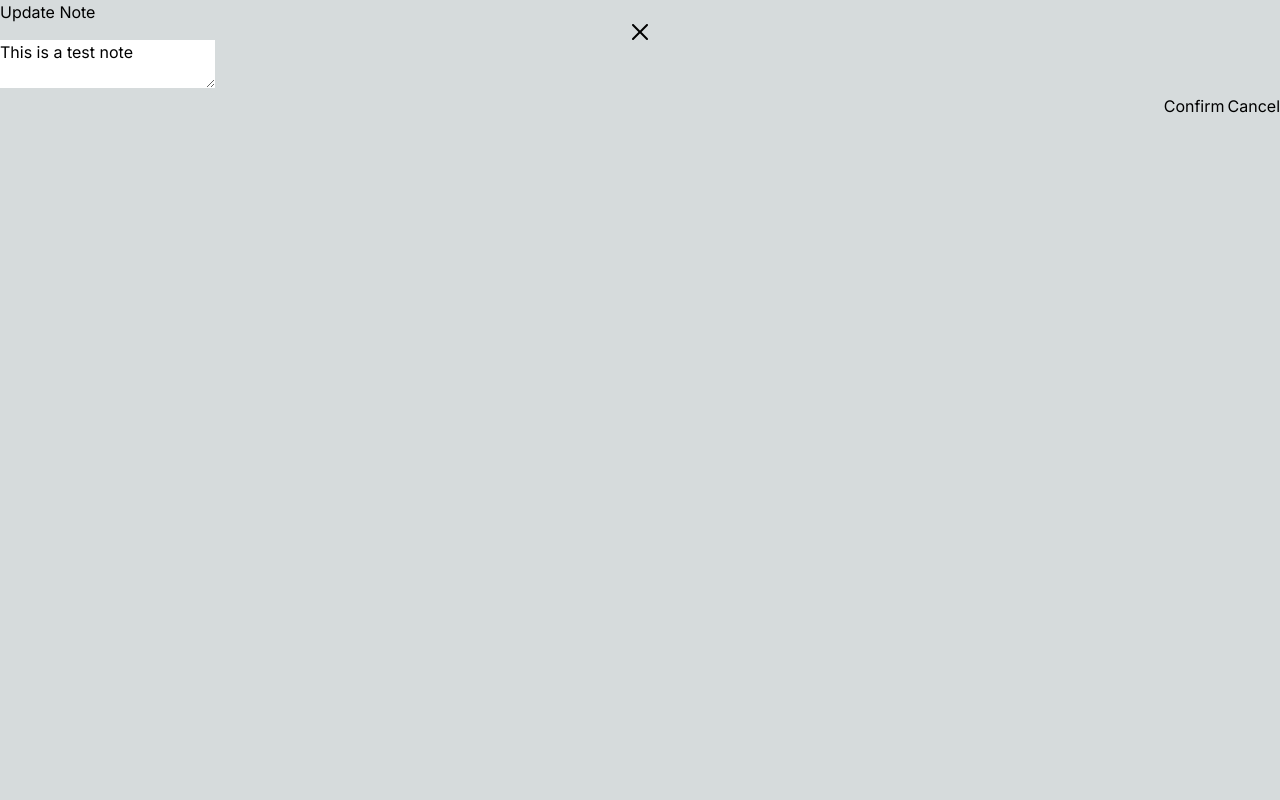
Scenario: EditModal › validates content length and displays an error message for short content
This screenshot has width=1280, height=800.
Step 1. Replace the text in the text box with "short" → (108, 64), box [0, 40, 215, 88]
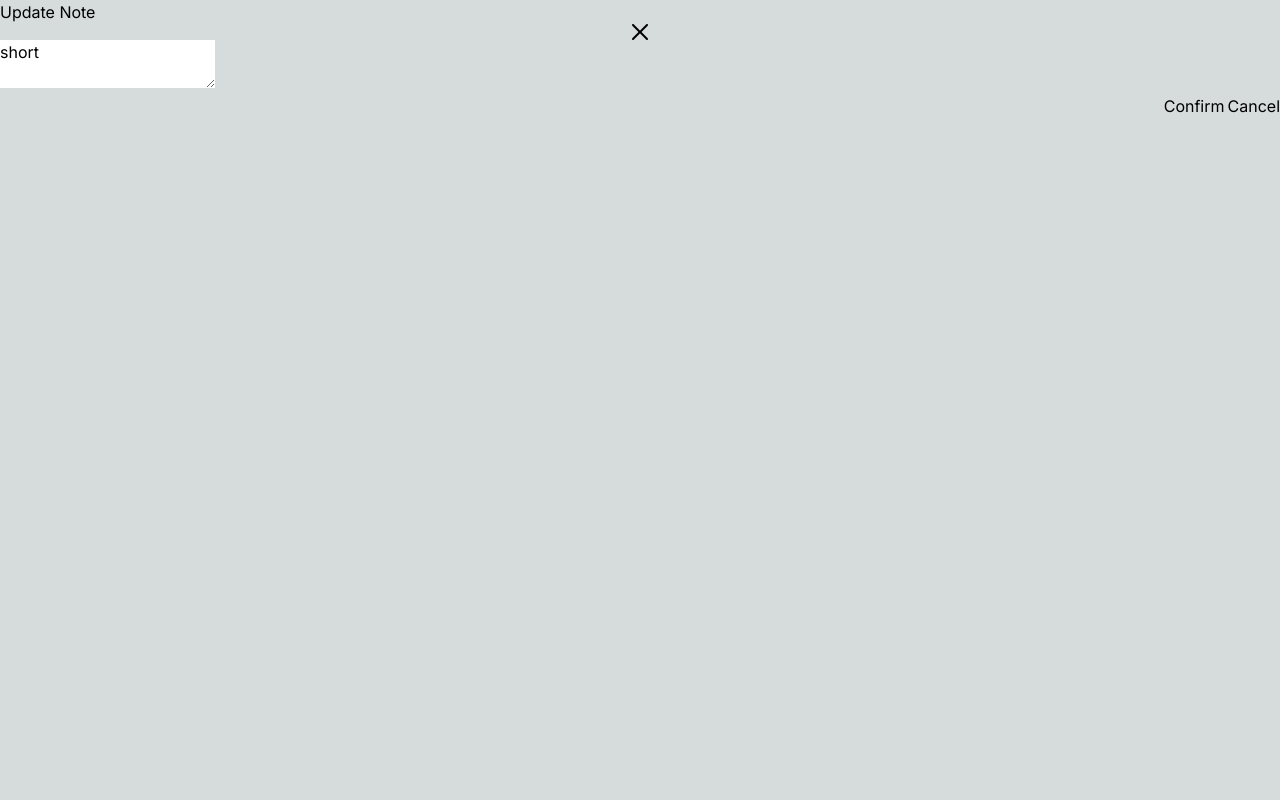
Step 2. Submit the form from the text box, box [0, 40, 215, 88]
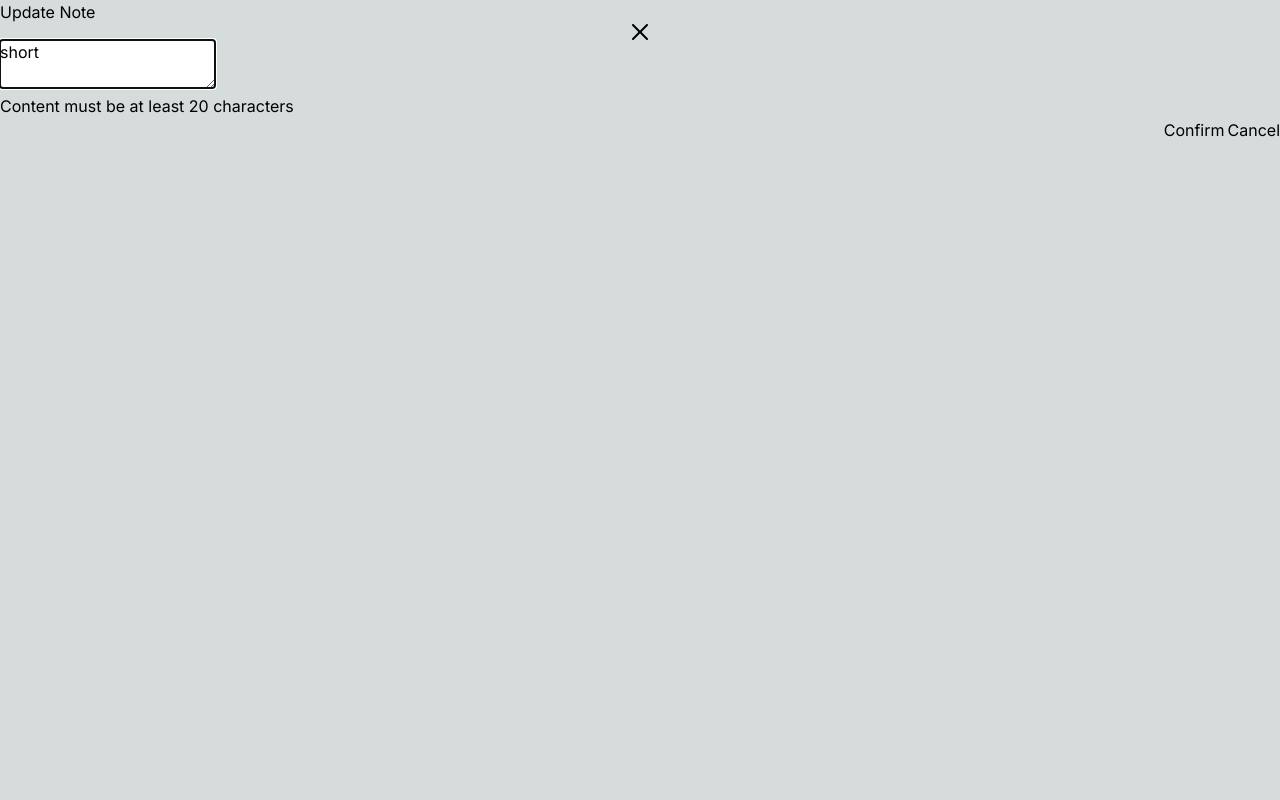
Expected: the text "Content must be at least 20 characters" is shown, [0, 96, 294, 116]
